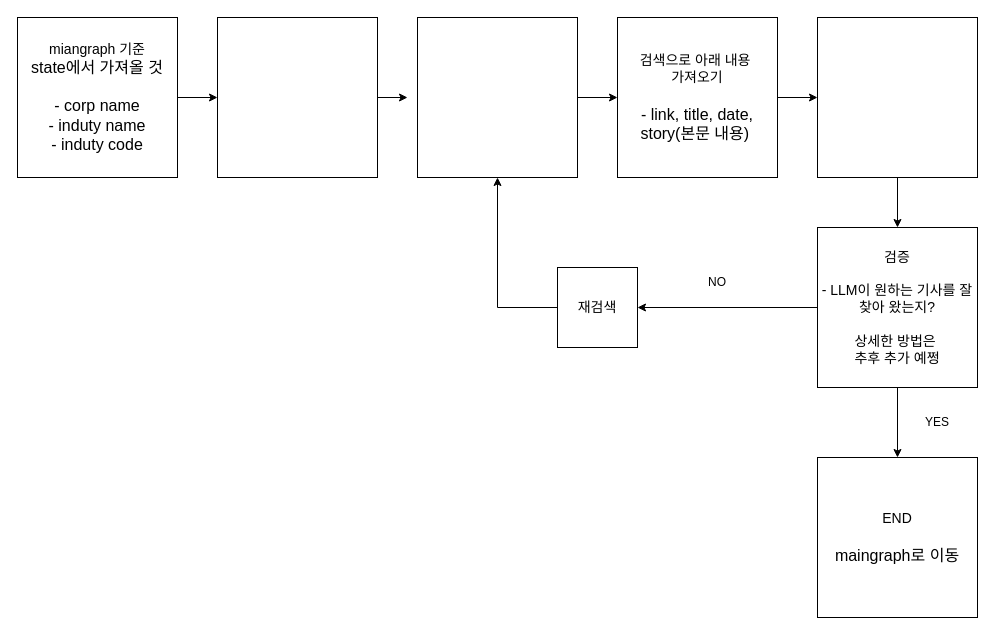
Some shapes in this 995 by 635 pixel diagram are drawn without their labels. Here are the shapes that lost their labels. From the top down, the centre of each, then its label:
[297,97]: Query 생성 LLM 생성 - 작성된 prompt 기준으로
[497,97]: duckduckgo mcp 검색 - web or news 사용
[897,97]: 전처리 story 3줄 요약
